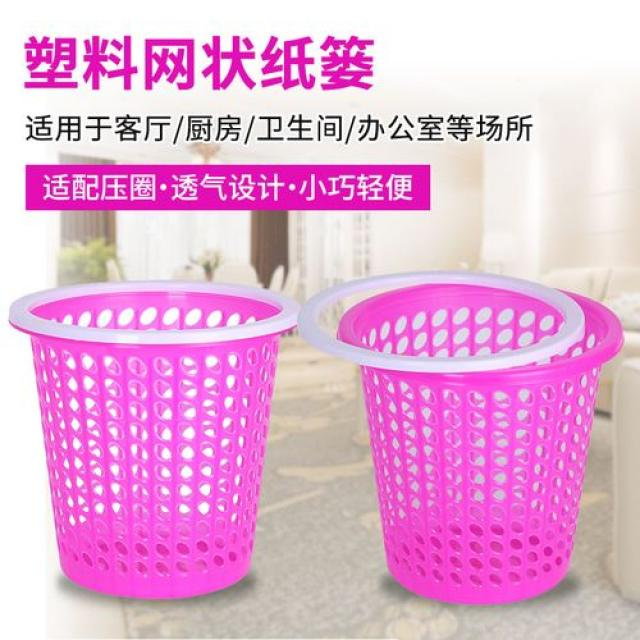dustbin: (300, 265, 629, 605), (6, 276, 303, 604)
